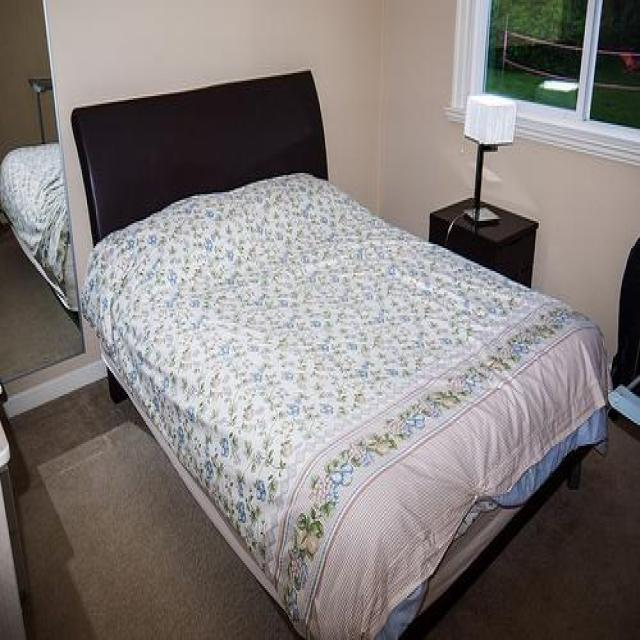bed: (66, 65, 612, 638)
